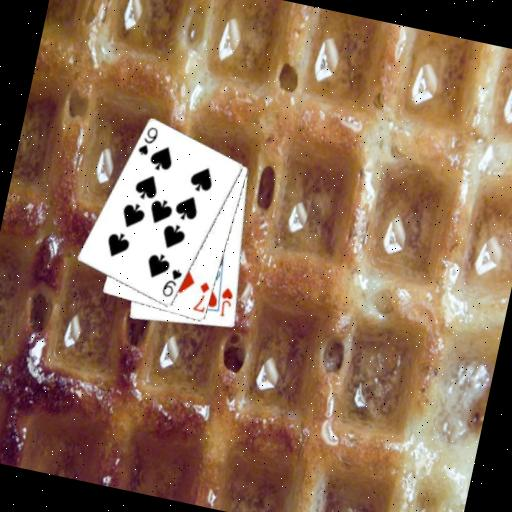7D: (190, 277, 212, 314)
9S: (158, 264, 185, 301), (134, 122, 161, 159)
JH: (214, 284, 236, 320)
